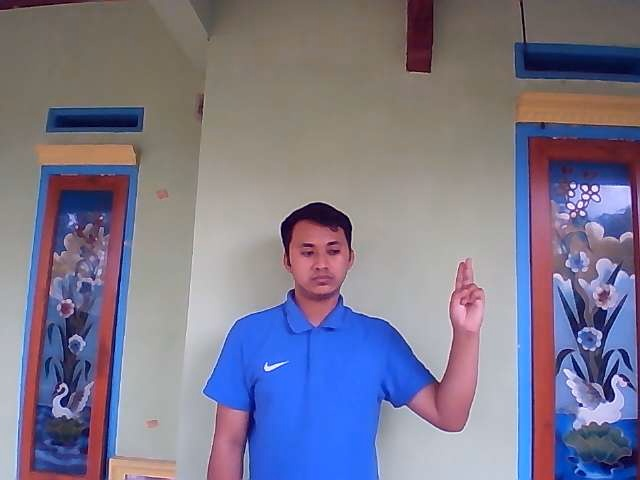U: (447, 256, 487, 332)
